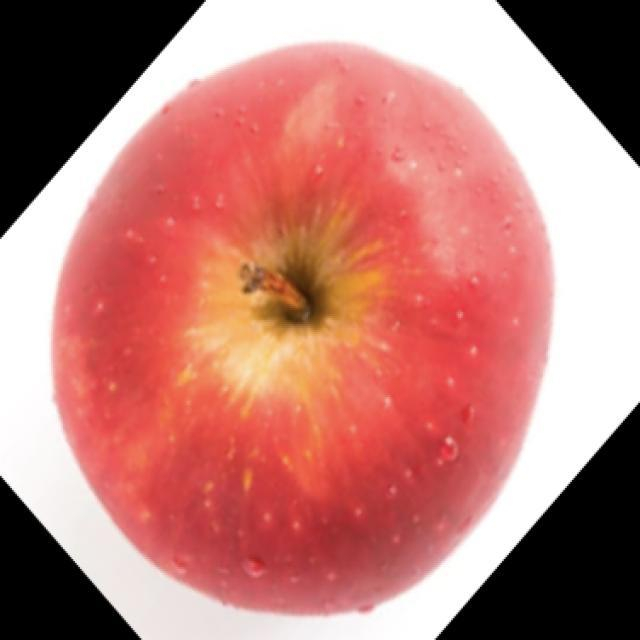Fresh Apple: (49, 37, 560, 615)
